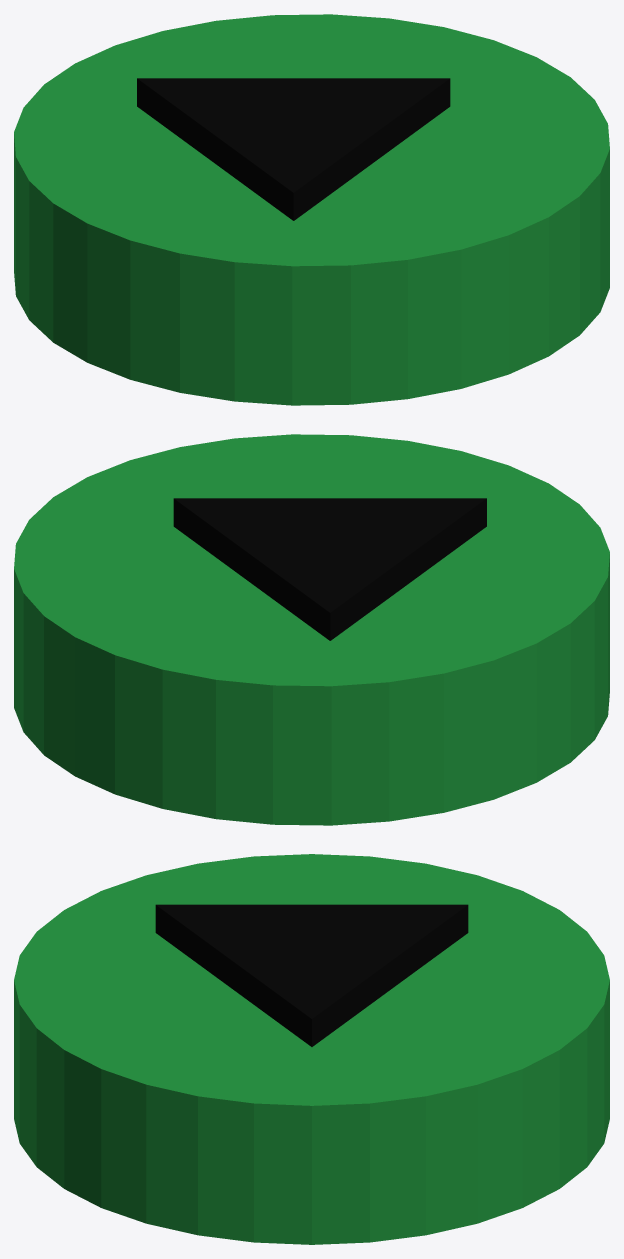
File: Paused.fbx
3 renders of one model, top to bottom at view 1: azimuth 30°, elevation 25°; view 2: azimuth 150°, elevation 25°; view 3: azimuth 270°, elevation 25°, orthographic.
Parts seen in each view (by area): view 1: Cylinder.002; view 2: Cylinder.002; view 3: Cylinder.002.
Boxes of the visible parts, bbox=[...] form: Cylinder.002: bbox=[14, 14, 609, 405]; Cylinder.002: bbox=[14, 434, 609, 825]; Cylinder.002: bbox=[14, 854, 609, 1244].
Bounding box in the file's own units: 380 × 118 × 380.
